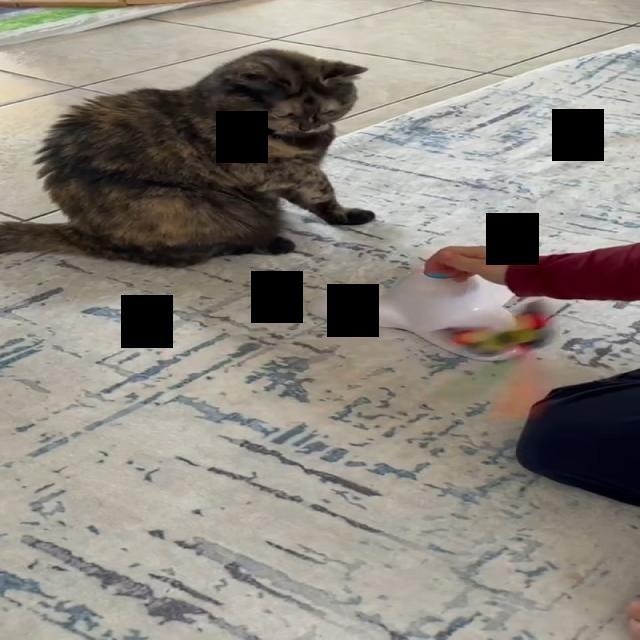authorized: (0, 47, 376, 268)
